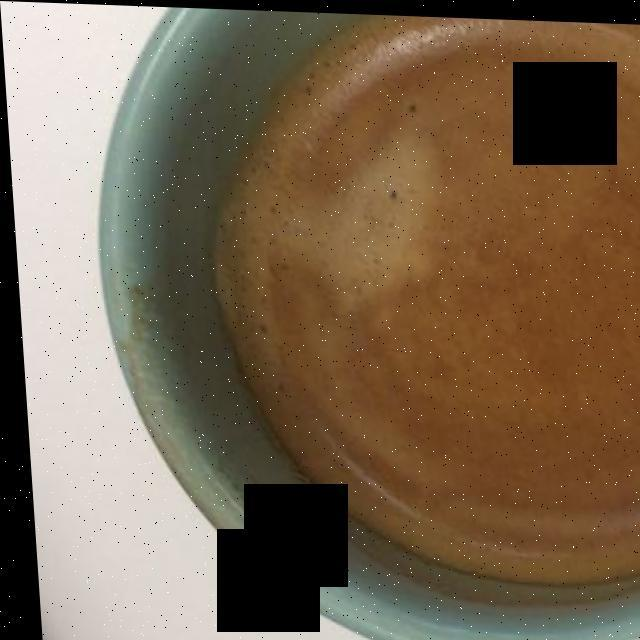coffee: (208, 26, 631, 589)
drink: (208, 26, 631, 589)
